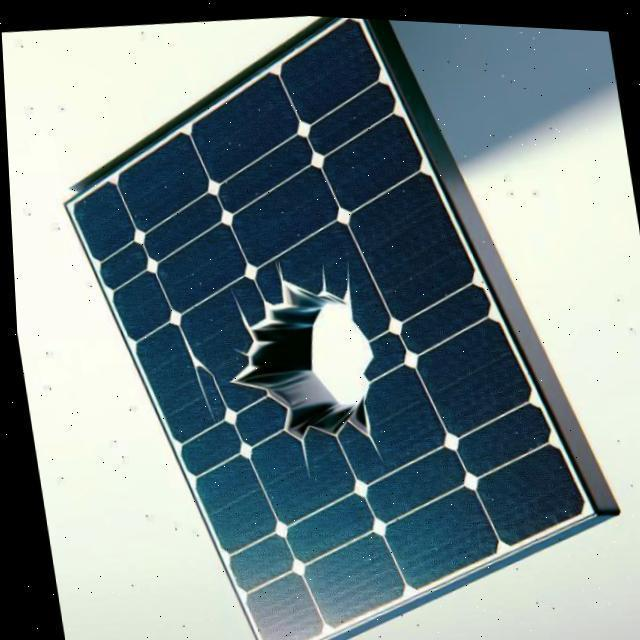Anomaly Solar Panel: (33, 14, 600, 640)
Structural Damage: (231, 263, 374, 443)
